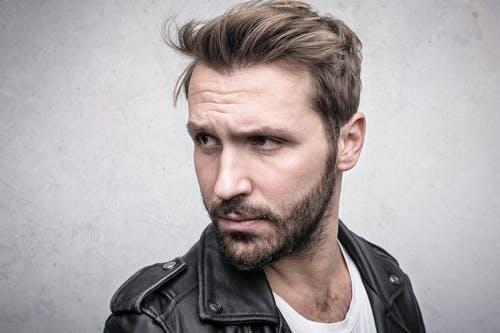Wrinkles: (191, 90, 257, 95), (201, 102, 240, 104), (209, 110, 229, 113)
